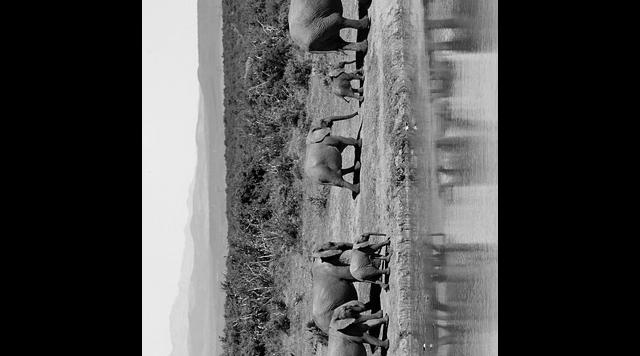Non_Gorille: (217, 0, 423, 356)
